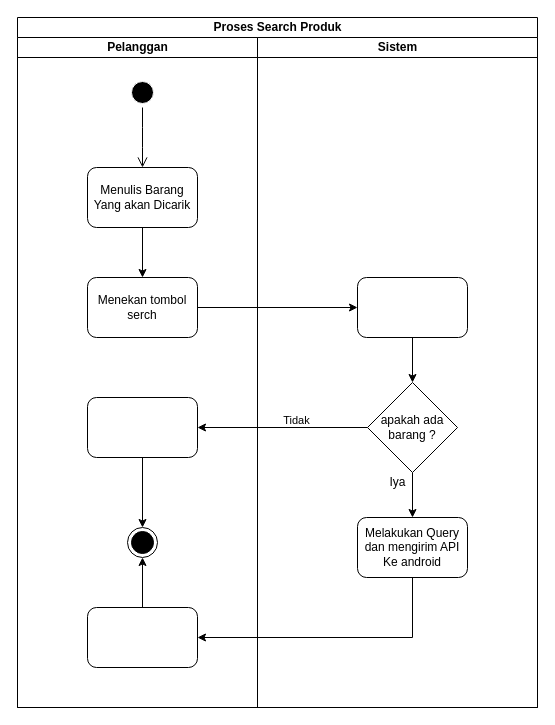
Image size: 555x725. Some labels were removed from this diagram. The shapes that lost their labels are listed below. From the top down, each one's centre as x and y in pixels, then its label:
At [412,307]: "Mengambil data dari database".
At [142,427]: "Menampilkan barang tidak ada".
At [142,637]: "Menampilkan List barang dan detail barang".
